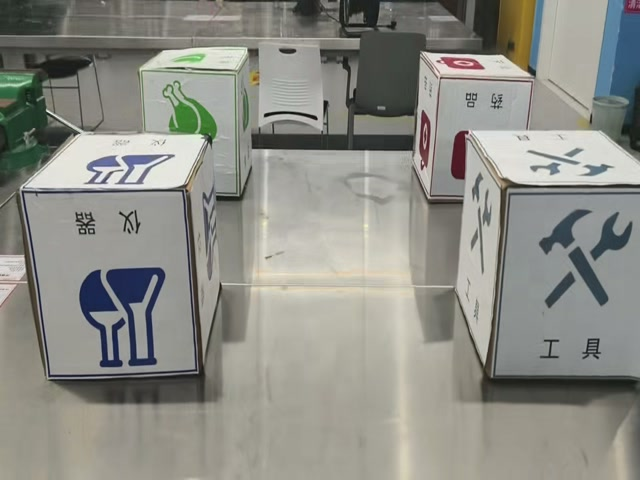Cube_food: (145, 48, 251, 79)
Cube_ins: (22, 131, 211, 192)
Cube_medicine: (422, 54, 537, 82)
Cube_tool: (470, 127, 640, 190)
